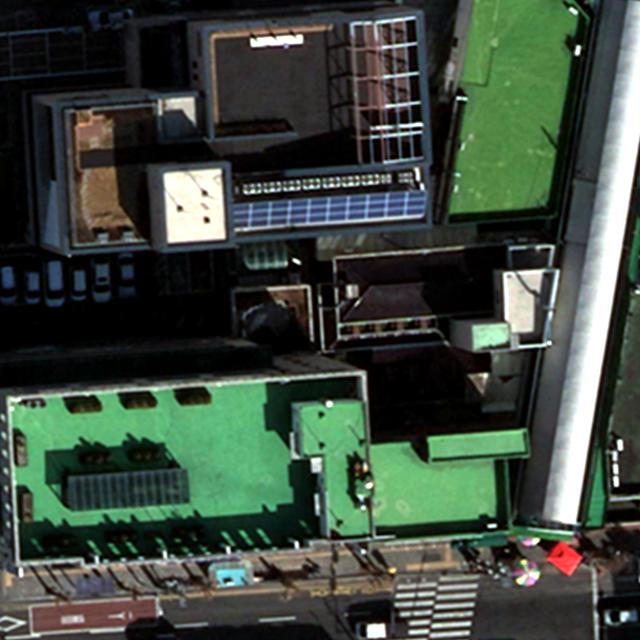panel: (228, 187, 435, 223)
